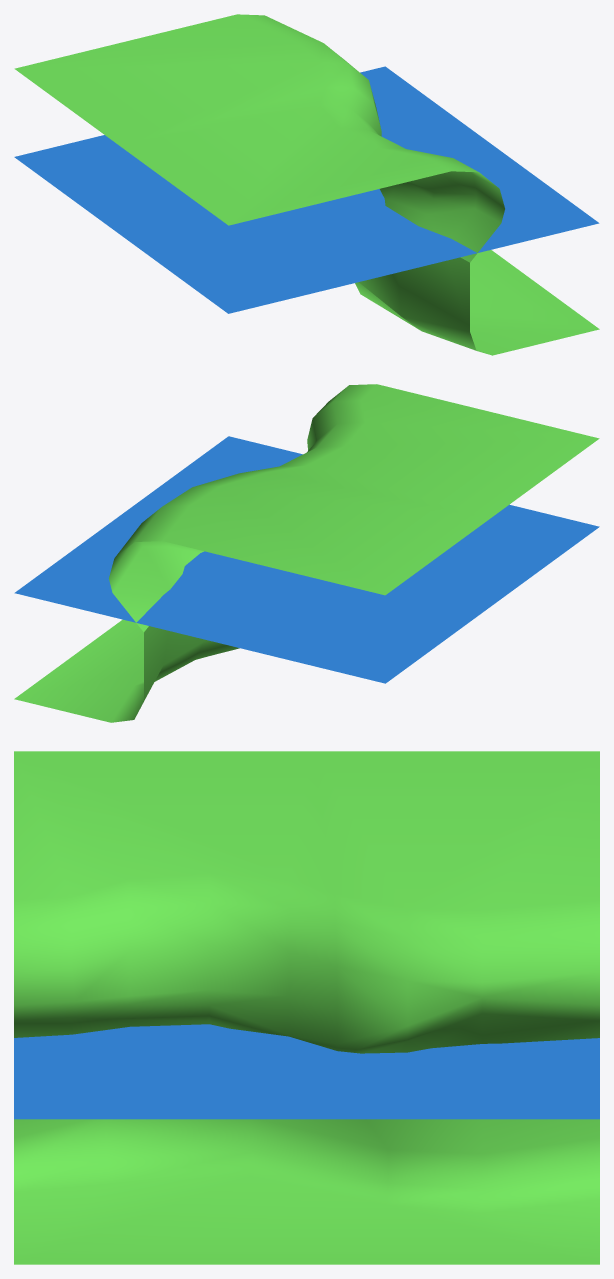
File: River_Edge_Mesh.fbx
3 renders of one model, top to bottom at view 1: azimuth 30°, elevation 25°; view 2: azimuth 150°, elevation 25°; view 3: azimuth 270°, elevation 25°, orthographic. The views are drawn at different scales.
Parts seen in each view (by area): view 1: River_Edge; view 2: River_Edge; view 3: River_Edge.
Boxes of the visible parts, x1,y1,x2,y2 form: River_Edge: (14, 14, 599, 355); River_Edge: (14, 384, 599, 722); River_Edge: (14, 751, 599, 1264).
Bounding box in the file's own units: 200 × 200 × 100.
